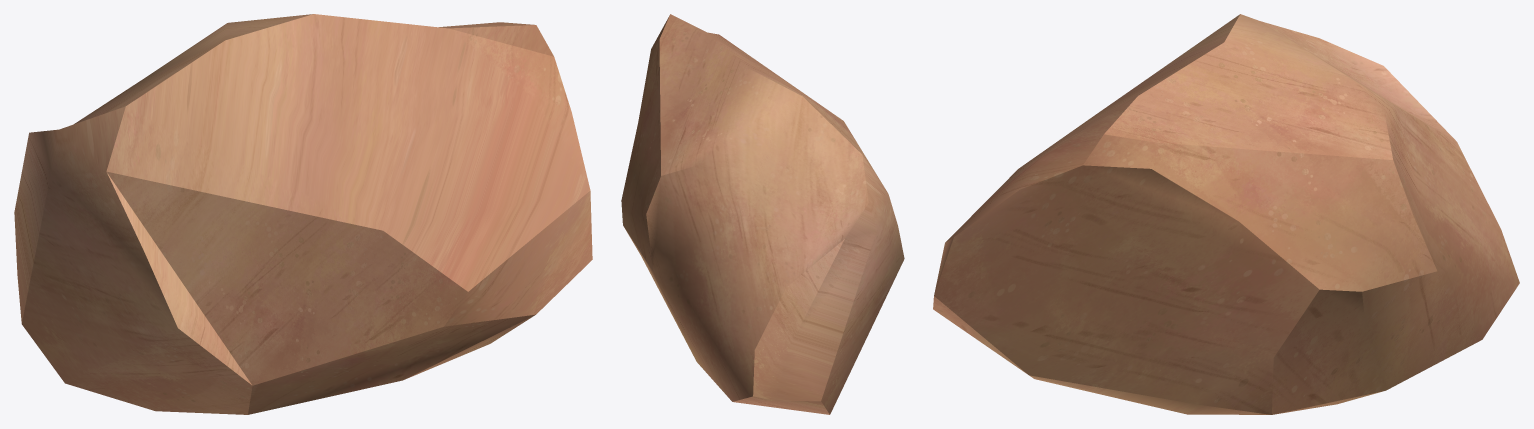
File: rock_1_011.fbx
3 renders of one model, left to right at view 1: azimuth 30°, elevation 25°; view 2: azimuth 150°, elevation 25°; view 3: azimuth 270°, elevation 25°, orthographic. The views are drawn at different scales.
Visible parts, largest first — view 1: rock 1.011; view 2: rock 1.011; view 3: rock 1.011.
Boxes of the visible parts, x1,y1,x2,y2 form: rock 1.011: (14, 14, 592, 414); rock 1.011: (621, 14, 904, 414); rock 1.011: (933, 14, 1519, 414).
Size of the model in its own units: 2250 by 2128 by 2827.
